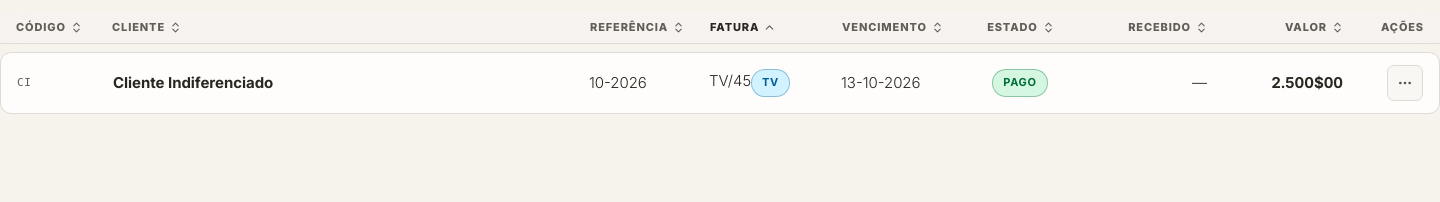
Test: sale-ticket rows expose their own detail action without generic invoice or receipt actions
Click the button named "Mais ações" at (1405, 83), box top-left (1387, 65), bottom-right (1423, 101)
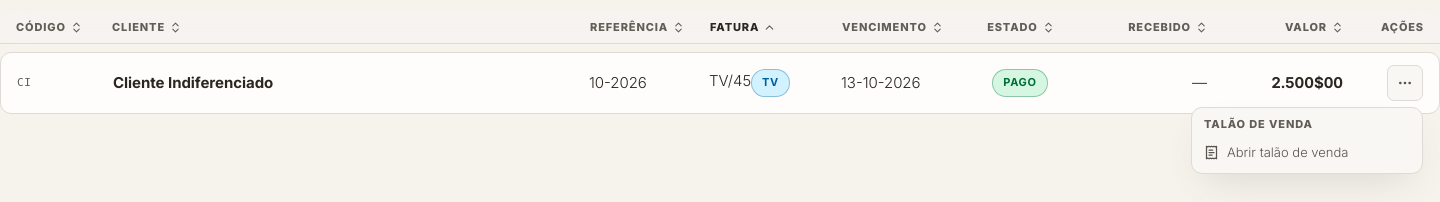
Expected: the text "Abrir talão de venda" is shown, top-left (1227, 142), bottom-right (1348, 162)
